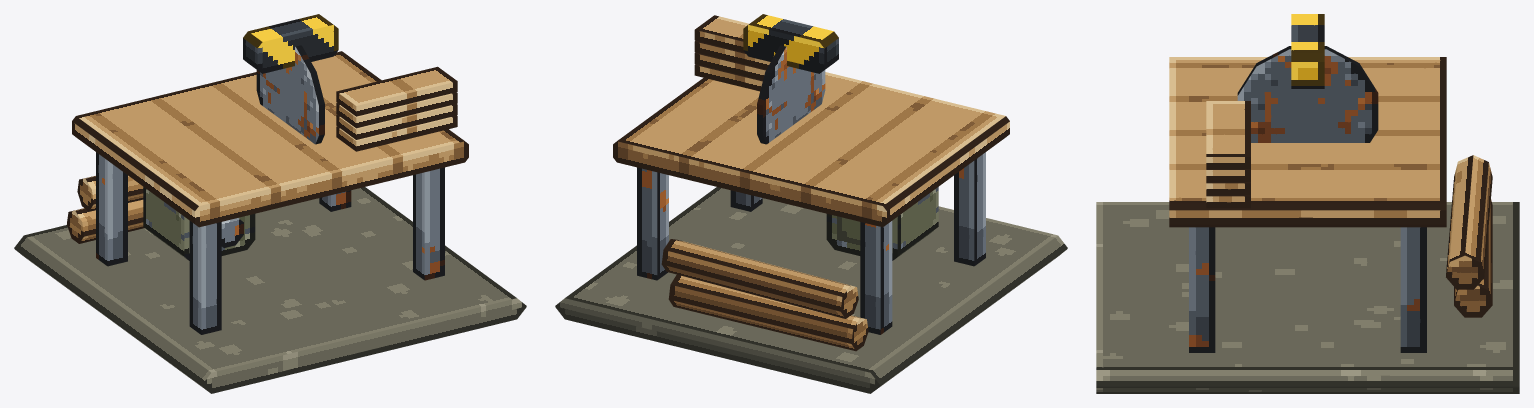
File: sawbench.glb
The picture shows the model from 3 angles, left to right: view 1: azimuth 30°, elevation 25°; view 2: azimuth 150°, elevation 25°; view 3: azimuth 270°, elevation 25°; orthographic projection. The views are drawn at different scales.
Visible parts, largest first — view 1: pad, top, blade, guard, leg2, leg3, plank3, leg0, motor, plank0, plank2, plank1 (+4 smaller); view 2: pad, top, log2, log1, blade, guard, leg0, leg1, leg2, motor, plank3, plank1 (+3 smaller); view 3: pad, top, blade, log2, leg1, leg3, plank3, guard, log1, plank0, plank1, plank2.
Boxes of the visible parts, left/top/right/bottom form: pad: left=14, top=187, right=526, bottom=393; top: left=72, top=51, right=468, bottom=227; blade: left=256, top=45, right=324, bottom=144; guard: left=243, top=14, right=338, bottom=73; leg2: left=189, top=221, right=221, bottom=334; leg3: left=413, top=167, right=444, bottom=280; plank3: left=336, top=66, right=457, bottom=116; leg0: left=96, top=152, right=127, bottom=266; motor: left=143, top=187, right=255, bottom=260; plank0: left=336, top=115, right=457, bottom=151; plank2: left=336, top=92, right=457, bottom=128; plank1: left=336, top=104, right=457, bottom=139; pad: left=555, top=187, right=1067, bottom=393; top: left=613, top=72, right=1009, bottom=227; log2: left=661, top=239, right=858, bottom=318; log1: left=668, top=274, right=868, bottom=351; blade: left=757, top=45, right=825, bottom=144; guard: left=743, top=14, right=838, bottom=73; leg0: left=860, top=221, right=892, bottom=334; leg1: left=637, top=167, right=668, bottom=280; leg2: left=954, top=152, right=985, bottom=266; motor: left=826, top=187, right=938, bottom=260; plank3: left=694, top=15, right=749, bottom=52; plank1: left=694, top=52, right=765, bottom=80; pad: left=1096, top=202, right=1519, bottom=393; top: left=1169, top=57, right=1446, bottom=227; blade: left=1237, top=46, right=1378, bottom=142; log2: left=1446, top=155, right=1492, bottom=289; leg1: left=1400, top=227, right=1426, bottom=352; leg3: left=1189, top=227, right=1215, bottom=352; plank3: left=1206, top=101, right=1250, bottom=168; guard: left=1291, top=14, right=1324, bottom=88; log1: left=1454, top=199, right=1492, bottom=317; plank0: left=1206, top=195, right=1250, bottom=208; plank1: left=1206, top=182, right=1250, bottom=195; plank2: left=1206, top=169, right=1250, bottom=181.
Bounding box in the file's own units: 32 × 24 × 32.
1 material, 1 textured.
